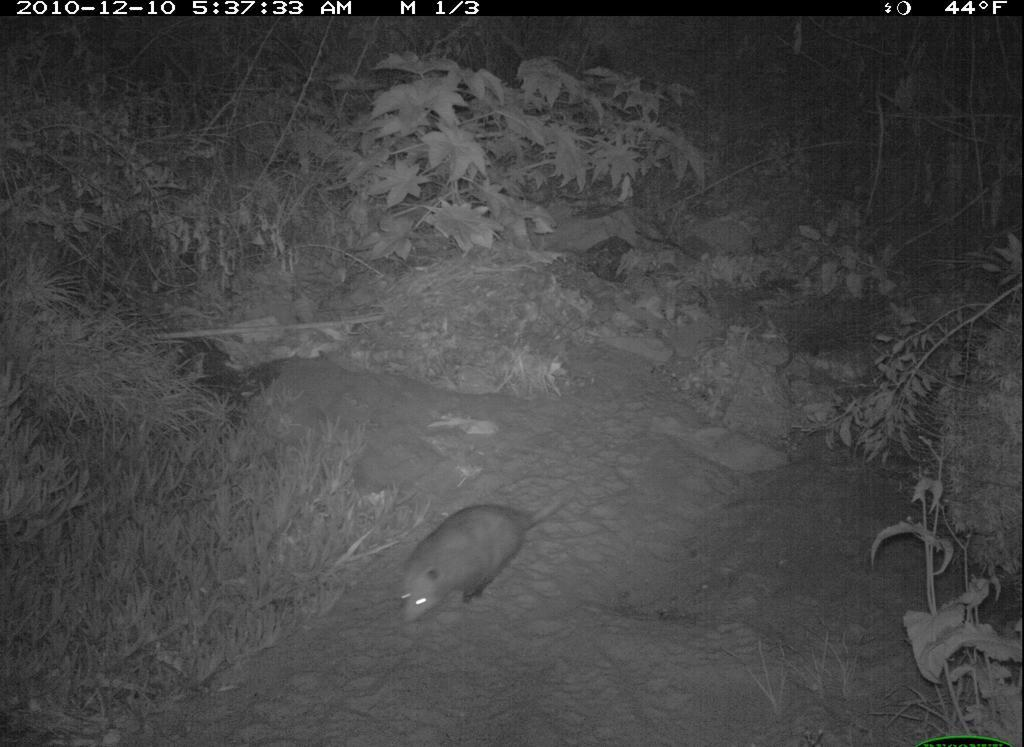opossum: (385, 484, 580, 625)
